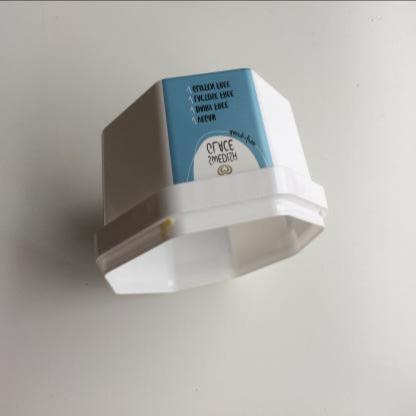Plastic container: (93, 68, 328, 293)
